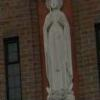Statue: (34, 2, 81, 97)
